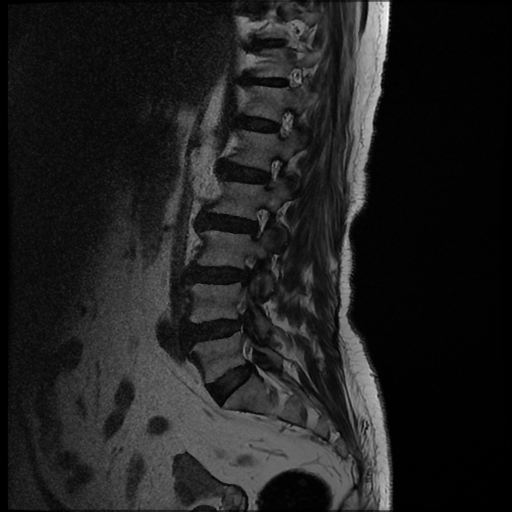RFS0: (238, 197, 276, 245), (251, 152, 290, 196)
